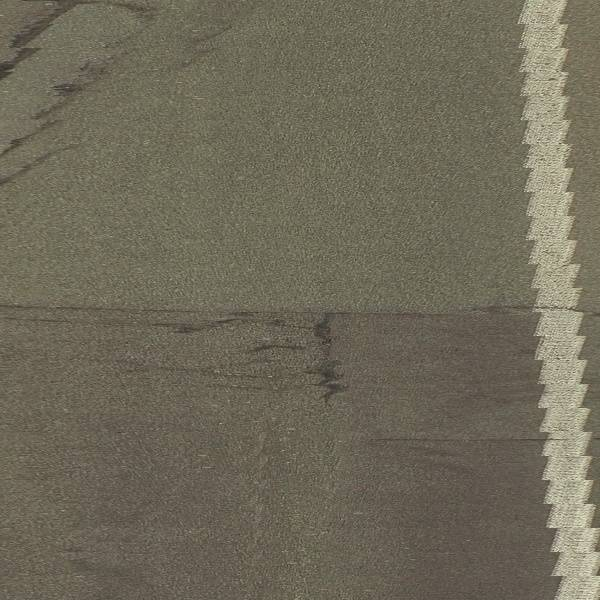road_damage: (1, 293, 527, 330), (14, 19, 154, 153), (232, 301, 366, 416)
